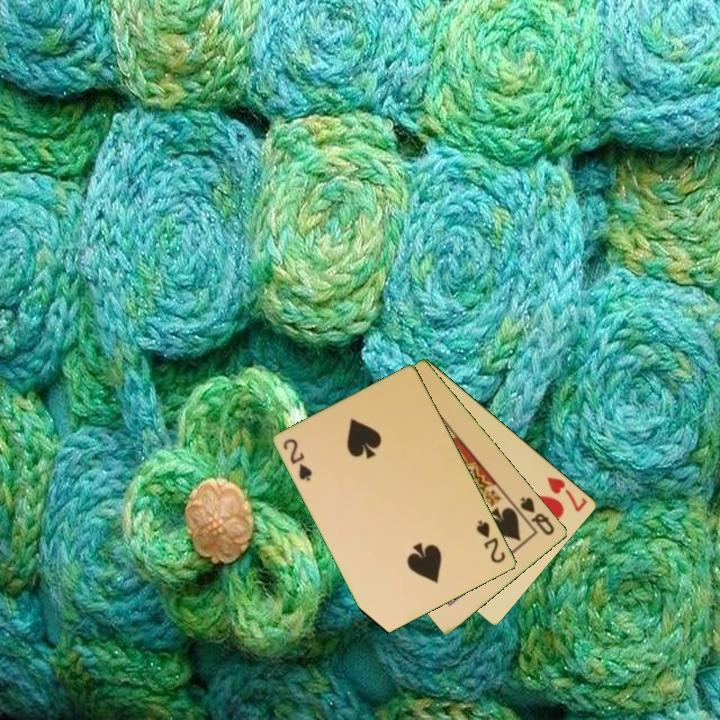2s: (473, 516, 509, 566), (280, 435, 315, 484)
7h: (543, 473, 591, 515)
Qs: (517, 493, 558, 538)
